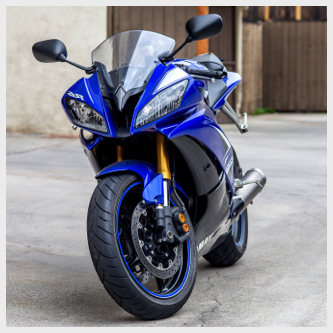motorbike: (29, 16, 272, 319)
